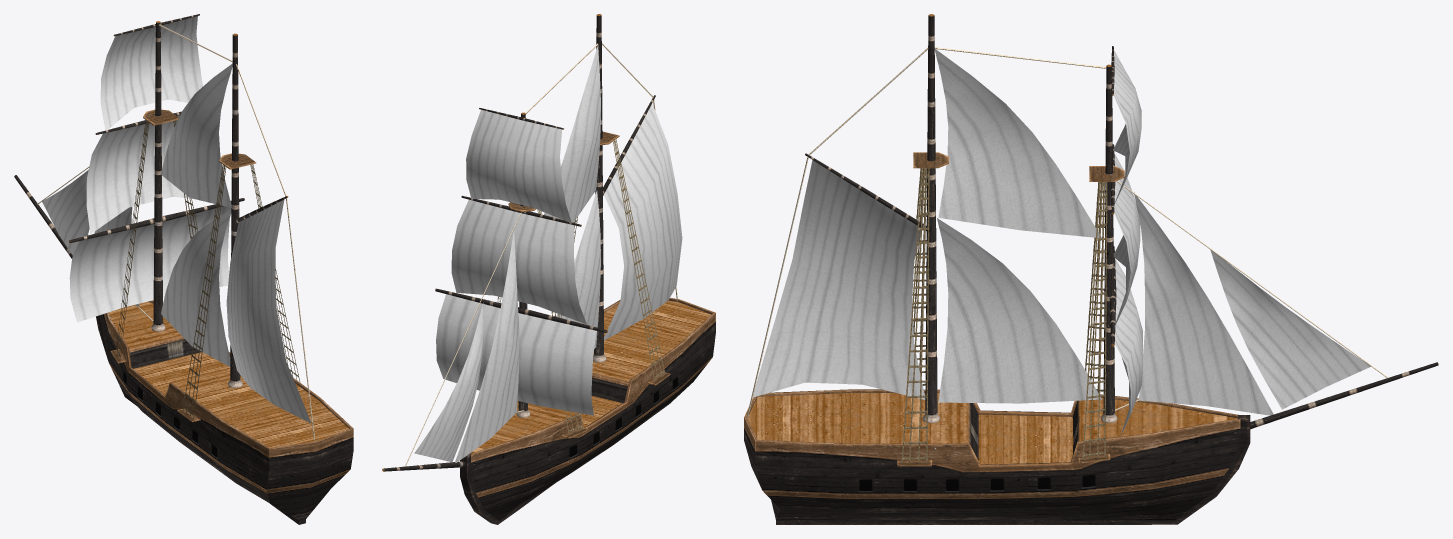
Rendered from Brigantine - FBX.FBX.
3 views of the same model, side by side, from view 1: azimuth 30°, elevation 25°; view 2: azimuth 150°, elevation 25°; view 3: azimuth 270°, elevation 25° (orthographic). The views are drawn at different scales.
Visible parts, largest first — view 1: Brigantine - Sails, Brigantine - Hull, Brigantine - Rigging; view 2: Brigantine - Sails, Brigantine - Hull, Brigantine - Rigging; view 3: Brigantine - Sails, Brigantine - Hull, Brigantine - Rigging.
Boxes of the visible parts, x1,y1,x2,y2 form: Brigantine - Sails: (42,16,311,423); Brigantine - Hull: (14,14,353,524); Brigantine - Rigging: (37,24,315,441); Brigantine - Sails: (414,45,682,462); Brigantine - Hull: (382,14,715,524); Brigantine - Rigging: (405,43,677,466); Brigantine - Sails: (753,49,1370,436); Brigantine - Hull: (744,14,1438,524); Brigantine - Rigging: (747,47,1388,462).
Size of the model in its own units: 1.36 by 3.29 by 4.07.
Materials: 2 (2 with a texture image).
